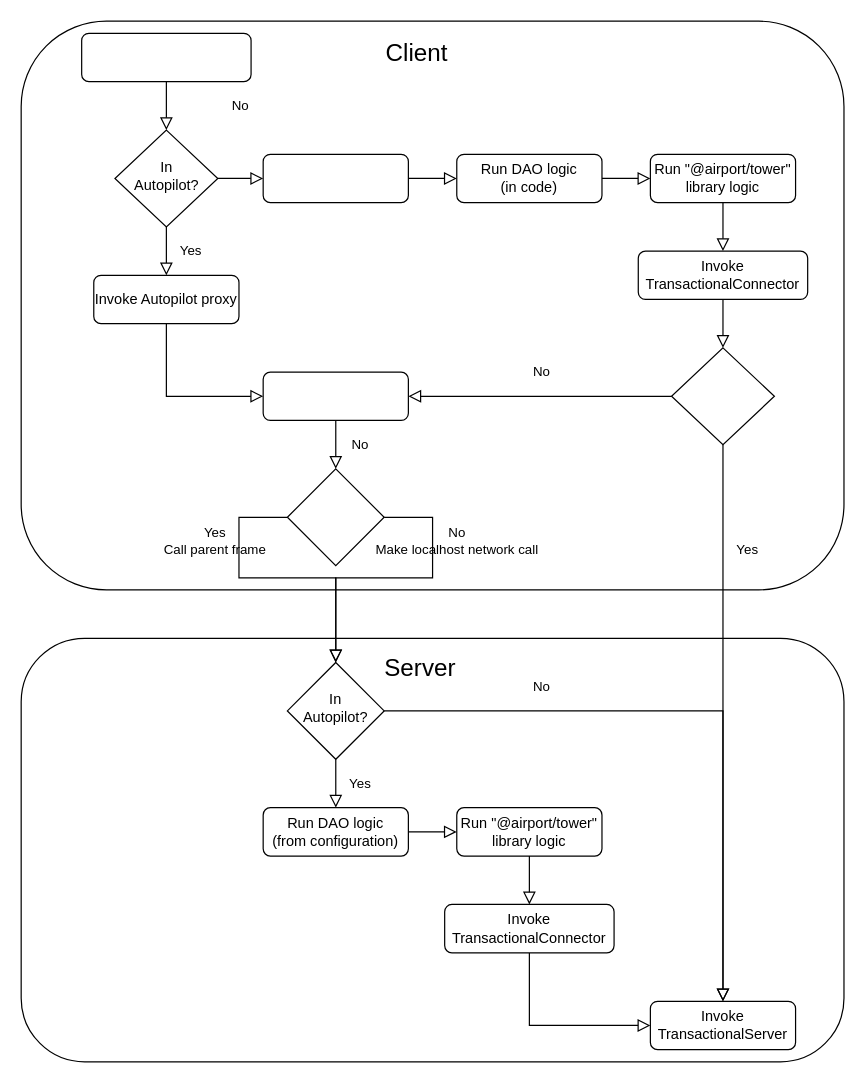
The diagram is 865 pixels wide and 1083 high, and some of its shapes have lost their labels. Here are the shapes that lost their labels. From the top down, the centre of each, then its label:
At point 165,57: "IOC.getSync(MY_DAO) .method(a, b, c)".
At point 335,178: "Load Dao Object".
At point 335,395: "Serialize Parameters".
At point 722,396: "In Server Mode?".
At point 335,517: "In Browser Mode?".
